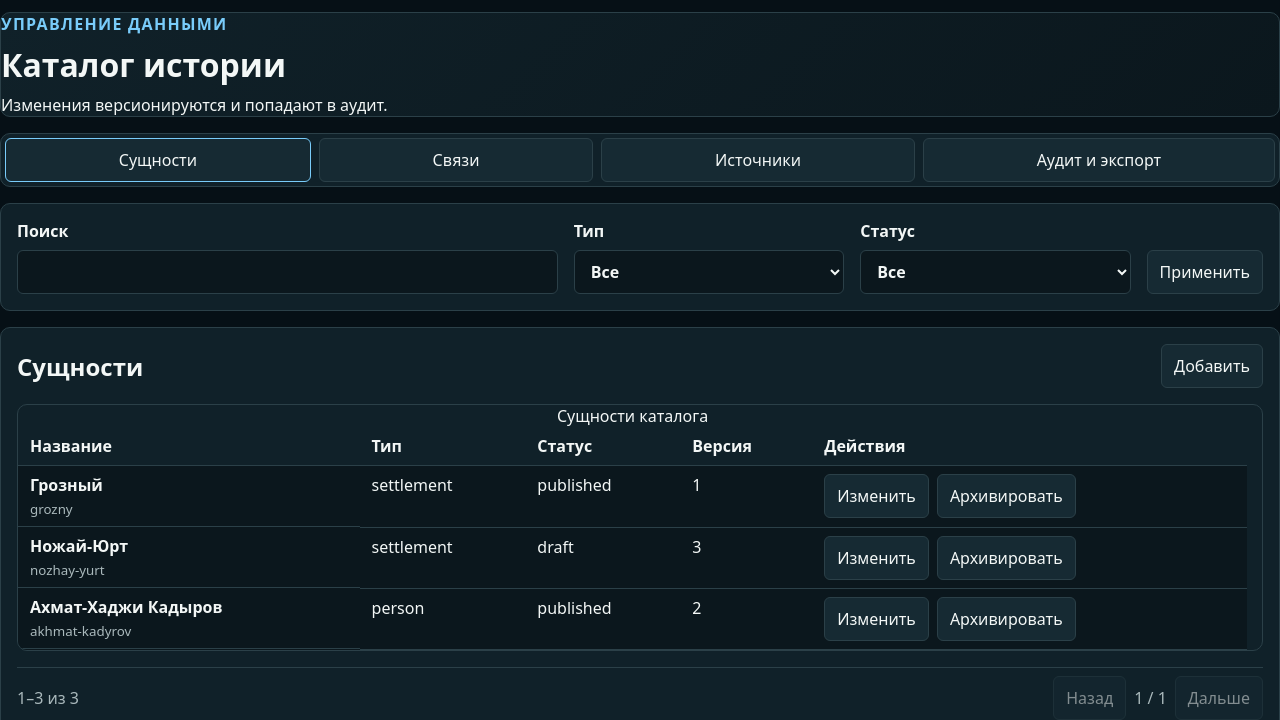
Scenario: keeps large catalog resources in separate navigable workspaces
expect the heading "Сущности" is shown: met, box [17,350,143,382]
Click the button "Источники" at (758, 160), box [601,138,915,182]
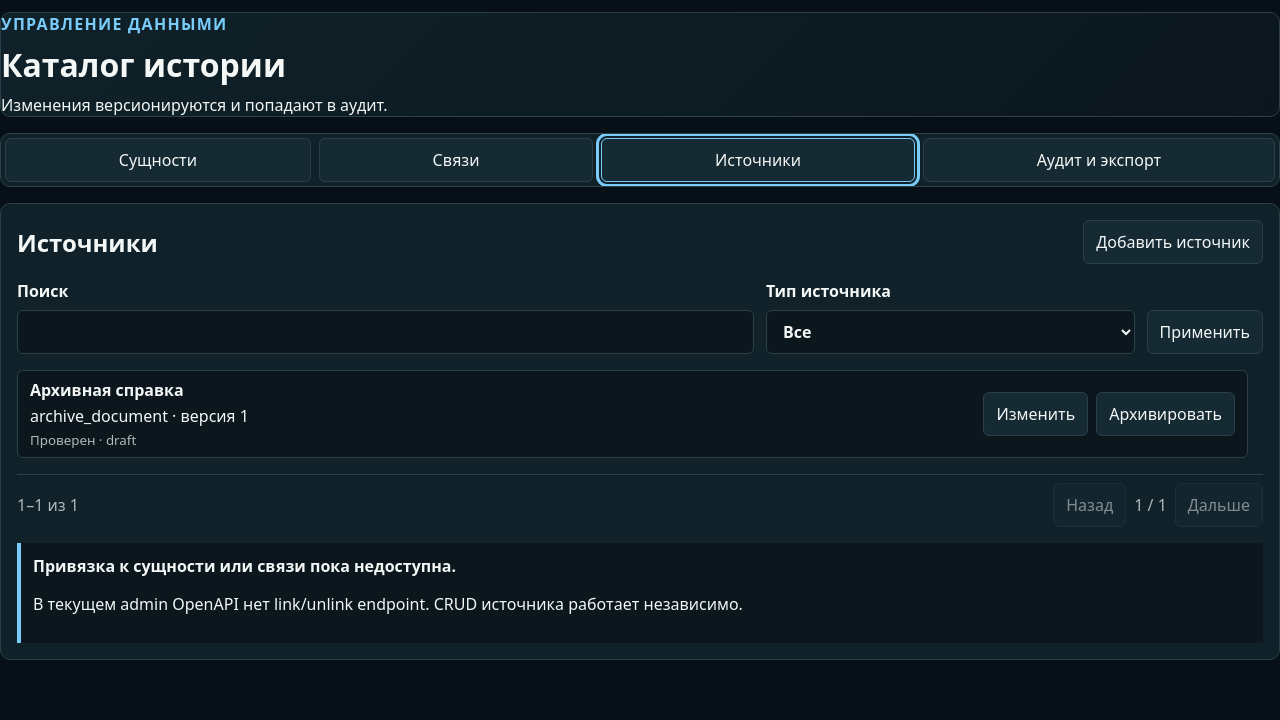
expect the heading "Источники" is shown: met, box [17,226,158,258]
expect the navigation bar named "Страницы источников" is shown: met, box [17,474,1263,527]
